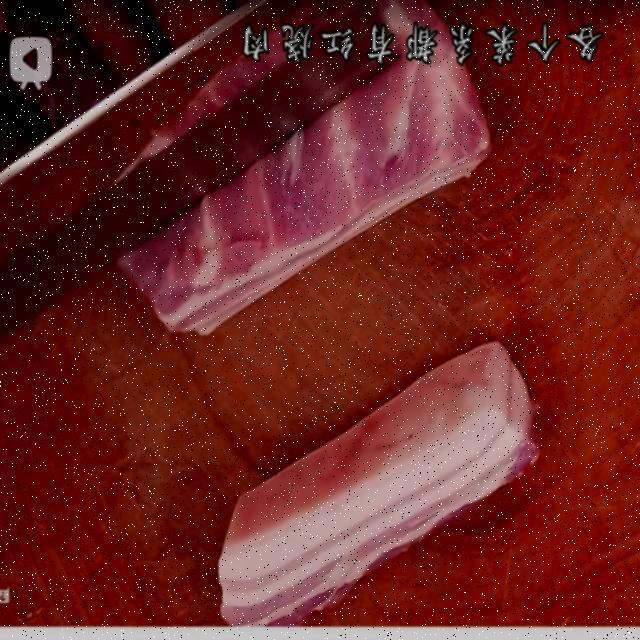pork: (216, 342, 535, 623), (140, 108, 532, 335)
